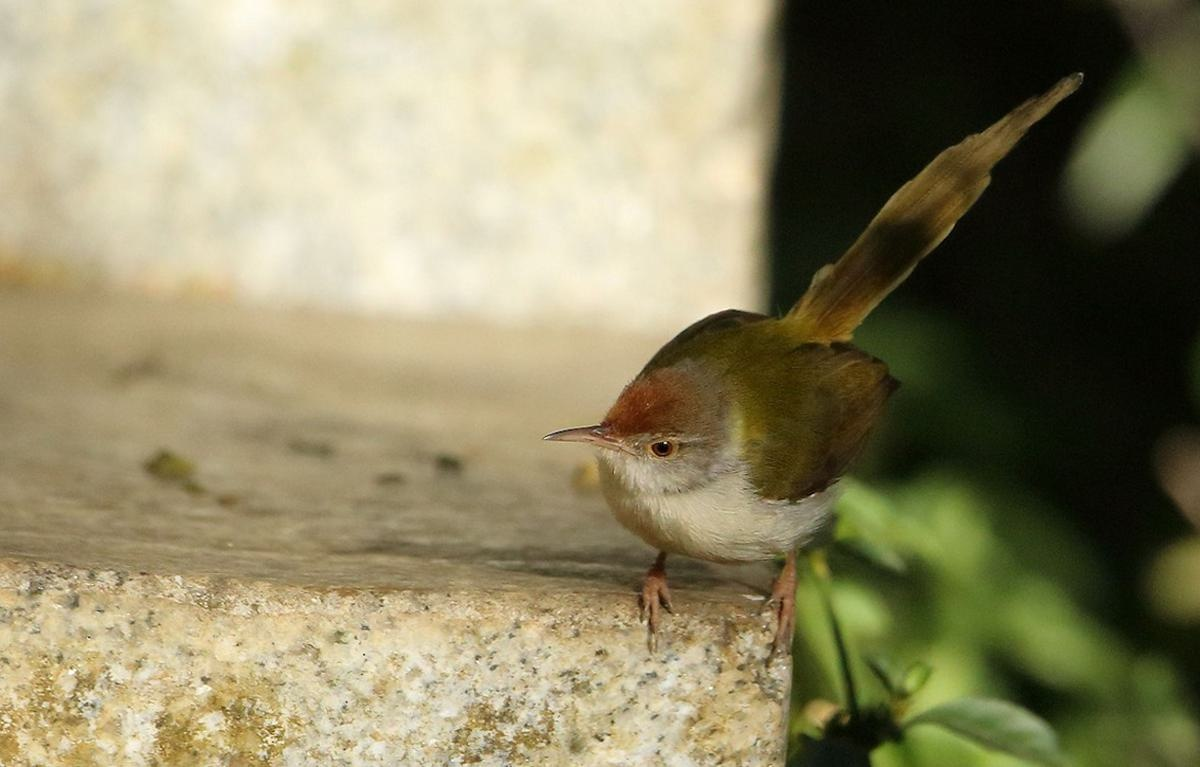tailorbird: (527, 60, 1069, 629)
